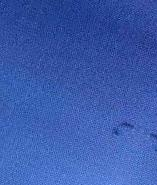knot: (113, 118, 136, 138), (149, 130, 157, 153)
